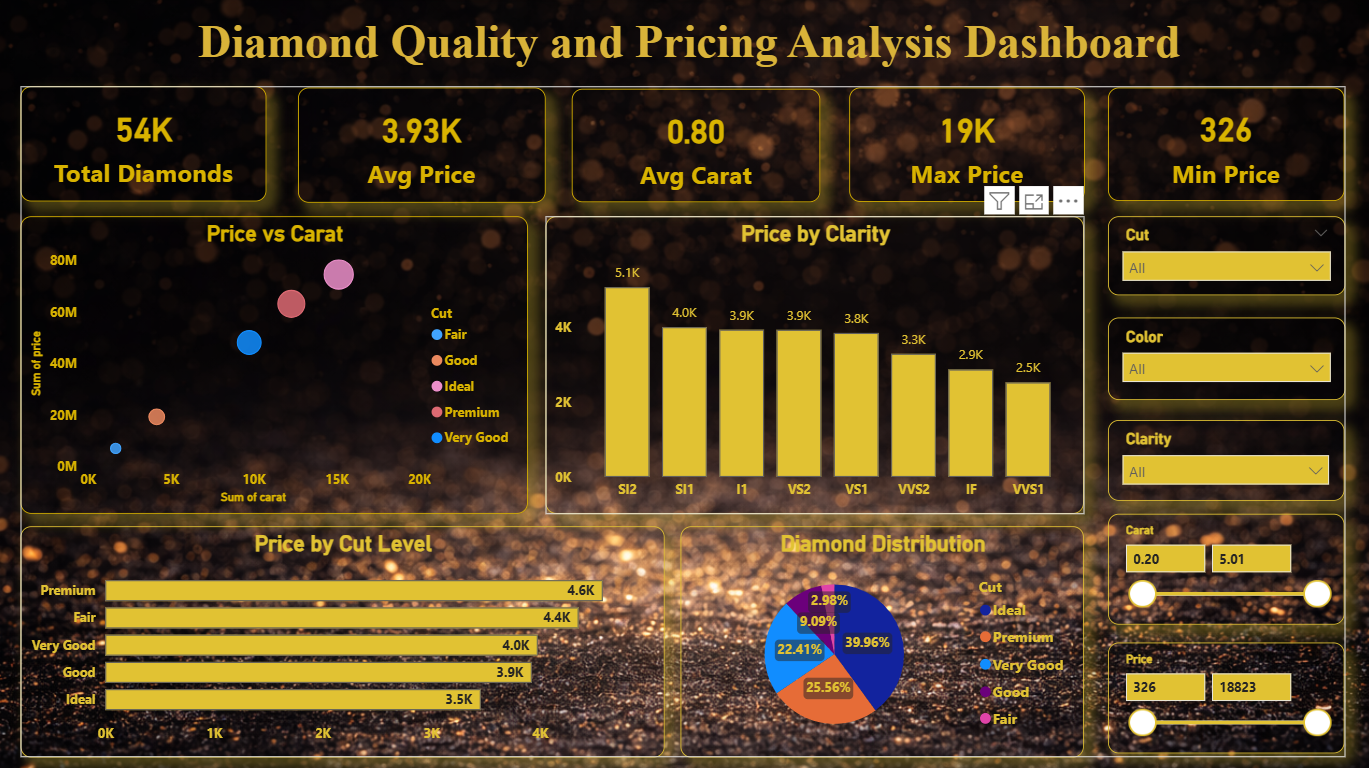

The page's visual inventory and layout, read from the dashboard file:
{"tool":"powerbi","page":{"name":"Page 1","canvas":[1280,720],"ordinal":0},"visuals":[{"type":"textbox","box":[26.7,9.3,1232.6,73.3],"z":0},{"type":"card","fields":{"Values":["diamonds.Total Diamonds"]},"box":[21.1,80,229.1,107],"z":1000,"group":"g1"},{"type":"card","fields":{"Values":["diamonds.Avg Price"]},"box":[279.2,81.2,230.2,107],"z":2000,"group":"g1"},{"type":"card","fields":{"Values":["diamonds.Avg Carat"]},"box":[533.9,82.3,231.4,105.8],"z":3000,"group":"g1"},{"type":"card","fields":{"Values":["diamonds.Max Price"]},"box":[791.5,81.6,219.3,106],"z":4000,"group":"g1"},{"type":"card","fields":{"Values":["diamonds.Min Price"]},"box":[1032.7,81.2,219.8,105.8],"z":5000,"group":"g1"},{"type":"scatterChart","title":"Price vs Carat","fields":{"X":["Sum(diamonds.carat)"],"Y":["Sum(diamonds.price)"],"Series":["diamonds.cut"],"Size":["Sum(diamonds.price)"]},"box":[21.1,200.9,472.1,276.7],"z":6000,"group":"g1"},{"type":"barChart","title":"Price by Cut Level","fields":{"Category":["diamonds.cut"],"Y":["diamonds.Avg Price"]},"box":[21.1,489.3,598.8,215.1],"z":7000,"group":"g1"},{"type":"columnChart","title":"Price by Clarity","fields":{"Category":["diamonds.clarity"],"Y":["diamonds.Avg Price"]},"box":[509.5,200.9,501.2,276.7],"z":8000,"group":"g1"},{"type":"pieChart","title":"Diamond Distribution","fields":{"Category":["diamonds.cut"],"Y":["diamonds.Total Diamonds"]},"box":[635.1,489.3,375.6,215.1],"z":9000,"group":"g1"},{"type":"slicer","fields":{"Values":["diamonds.cut"]},"box":[1032.7,200.9,220.9,73.3],"z":10000,"group":"g1"},{"type":"slicer","fields":{"Values":["diamonds.color"]},"box":[1032.7,295.1,220.9,76.7],"z":11000,"group":"g1"},{"type":"slicer","fields":{"Values":["diamonds.clarity"]},"box":[1032.7,390.5,219.8,75.6],"z":12000,"group":"g1"},{"type":"slicer","fields":{"Values":["diamonds.carat"]},"box":[1032.7,477.7,219.8,103.5],"z":13000,"group":"g1"},{"type":"slicer","fields":{"Values":["diamonds.price"]},"box":[1032.7,597.6,219.8,103.5],"z":14000,"group":"g1"},{"type":"group","id":"g1","title":"Group 1","box":[21.1,80,1232.2,624.4],"z":14001}]}

Visuals, with their boxes in screenshot pixels (x1, y1, x2, y2), scaled from the page's 1280x720 canvas onto the 1369x768 screenshot:
textbox: 29,10,1347,88
card - diamonds.Total Diamonds: 23,85,268,199
card - diamonds.Avg Price: 299,87,545,201
card - diamonds.Avg Carat: 571,88,819,201
card - diamonds.Max Price: 847,87,1081,200
card - diamonds.Min Price: 1105,87,1340,199
"Price vs Carat" scatterChart: 23,214,527,509
"Price by Cut Level" barChart: 23,522,663,751
"Price by Clarity" columnChart: 545,214,1081,509
"Diamond Distribution" pieChart: 679,522,1081,751
slicer - diamonds.cut: 1105,214,1341,292
slicer - diamonds.color: 1105,315,1341,397
slicer - diamonds.clarity: 1105,417,1340,497
slicer - diamonds.carat: 1105,510,1340,620
slicer - diamonds.price: 1105,637,1340,748
"Group 1" group: 23,85,1340,751
